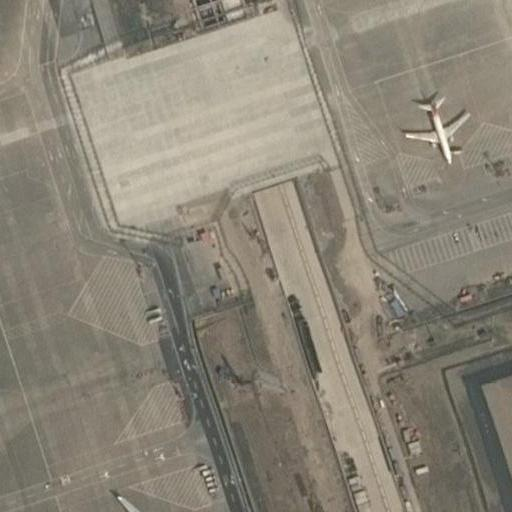Aircraft: (393, 91, 468, 171), (75, 493, 209, 512)
